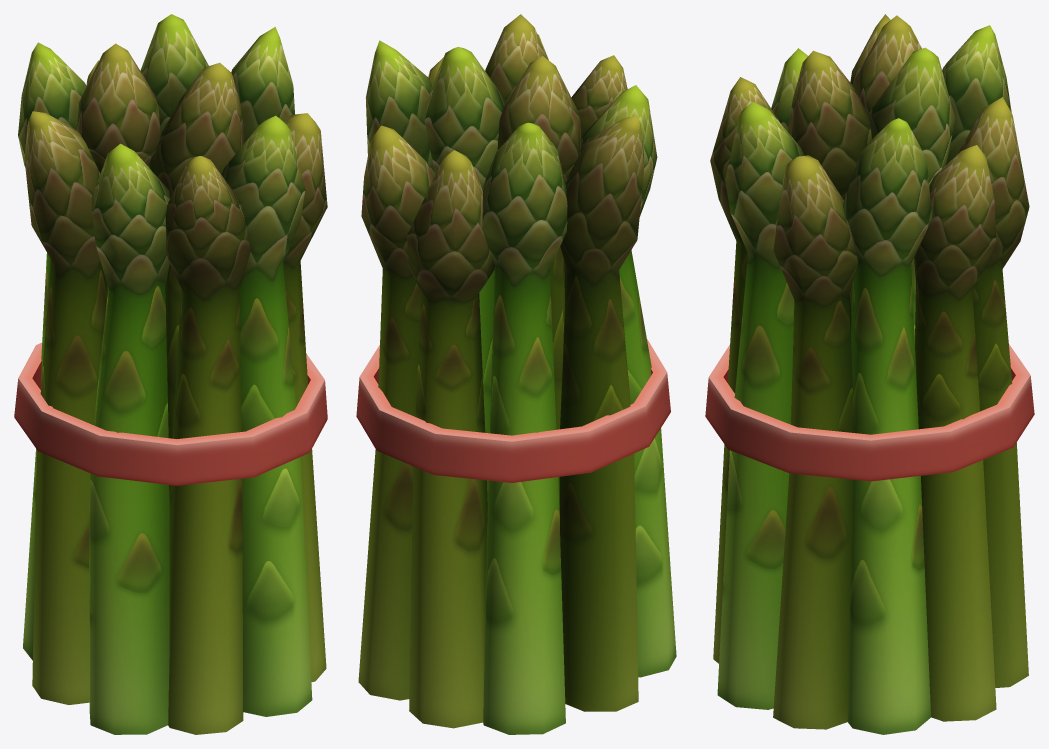
Rendered from Asparagus.fbx.
3 views of the same model, side by side, from view 1: azimuth 30°, elevation 25°; view 2: azimuth 150°, elevation 25°; view 3: azimuth 270°, elevation 25° (orthographic).
Parts seen in each view (by area): view 1: Asparagus; view 2: Asparagus; view 3: Asparagus.
Part boxes in pixels (box(x1,y1,x2,y2)): Asparagus: box(14, 14, 327, 734); Asparagus: box(356, 14, 676, 734); Asparagus: box(705, 14, 1034, 734).
Size of the model in its own units: 40.68 by 91.45 by 42.89.
